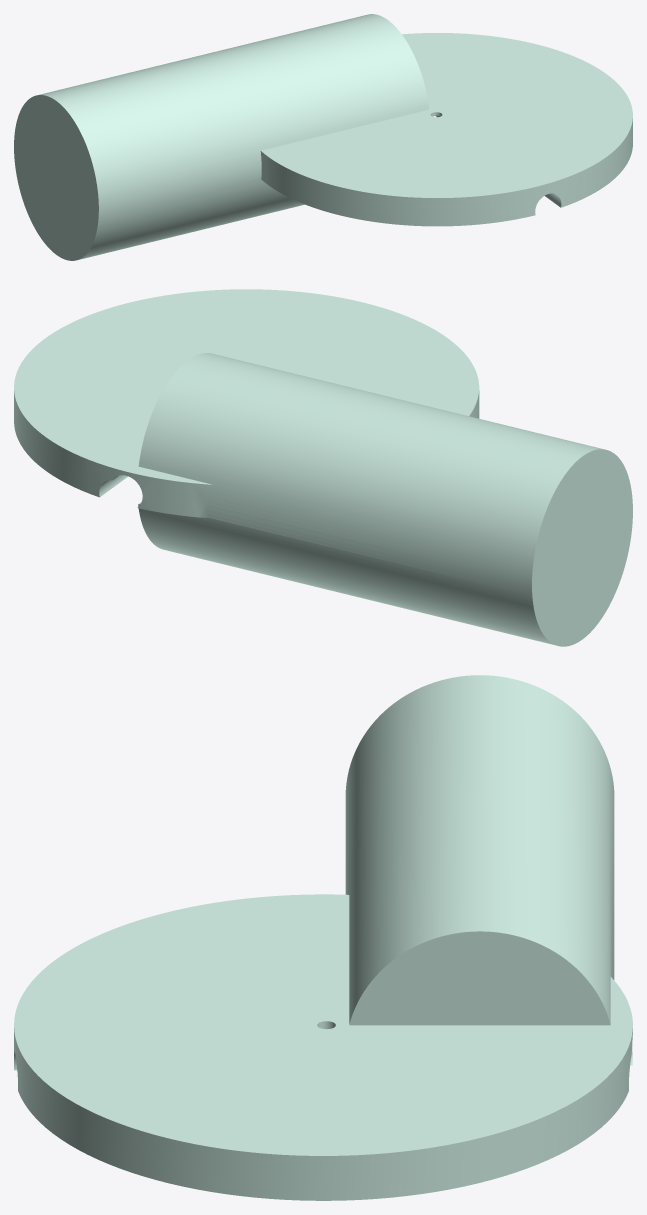
3 renders of one model, top to bottom at view 1: azimuth 30°, elevation 25°; view 2: azimuth 150°, elevation 25°; view 3: azimuth 270°, elevation 25°, orthographic. The views are drawn at different scales.
Visible parts, largest first — view 1: Renderer Node; view 2: Renderer Node; view 3: Renderer Node.
Part boxes in pixels (x1,y1,x2,y2): Renderer Node: (14,14,632,260); Renderer Node: (14,289,632,646); Renderer Node: (14,675,632,1200).
Size of the model in its own units: 1.16 by 0.3395 by 0.7816.
